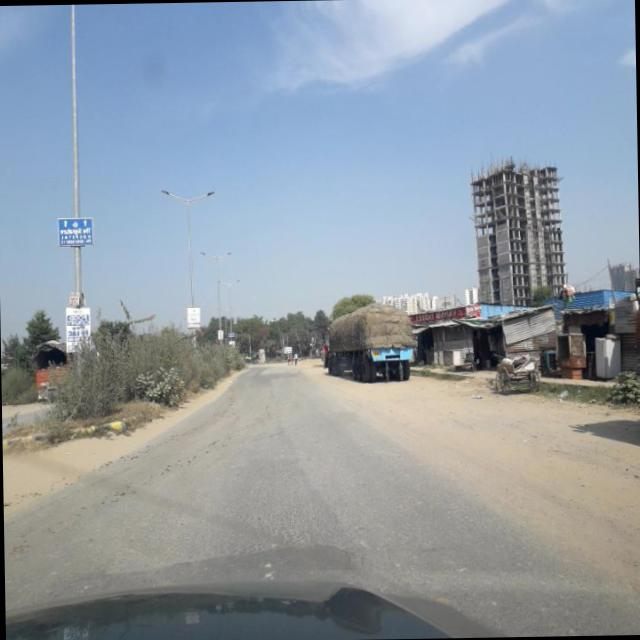crack: (142, 465, 346, 558)
